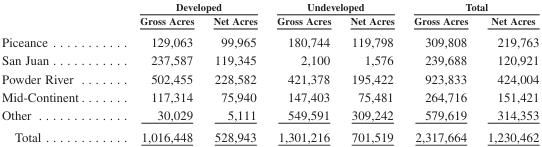table: (0, 0, 538, 143)
table column: (0, 0, 111, 143), (111, 0, 203, 143), (266, 0, 340, 143), (403, 0, 477, 143), (203, 0, 266, 143), (340, 0, 403, 143), (477, 0, 538, 143)
table column header: (0, 0, 538, 30)
table row: (0, 30, 538, 51), (0, 105, 538, 125), (0, 51, 538, 69), (0, 69, 538, 87), (0, 87, 538, 105), (0, 125, 538, 143), (0, 13, 538, 30), (0, 0, 538, 13)
table spanning cell: (111, 0, 266, 13), (266, 0, 403, 13), (403, 0, 538, 13)
